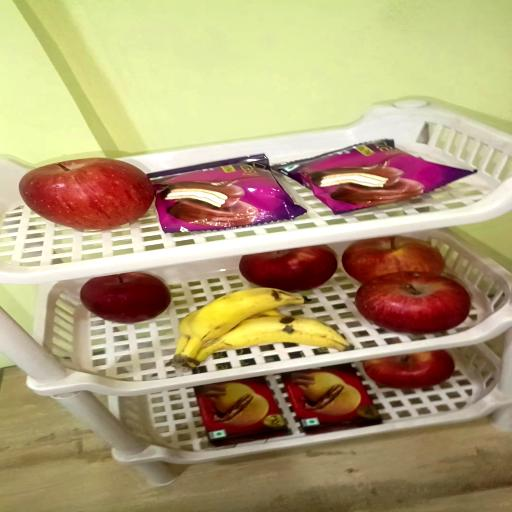Apple: (18, 161, 154, 233), (354, 273, 470, 335), (342, 237, 445, 285), (240, 246, 338, 293), (80, 273, 170, 324), (363, 350, 454, 389)
Choco Fills: (282, 364, 382, 434), (196, 377, 291, 446)
Choco Pie: (281, 141, 476, 217), (149, 156, 308, 236)
